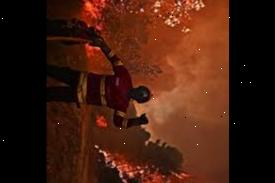fire: (90, 139, 229, 183), (73, 0, 229, 34), (91, 112, 109, 129)
